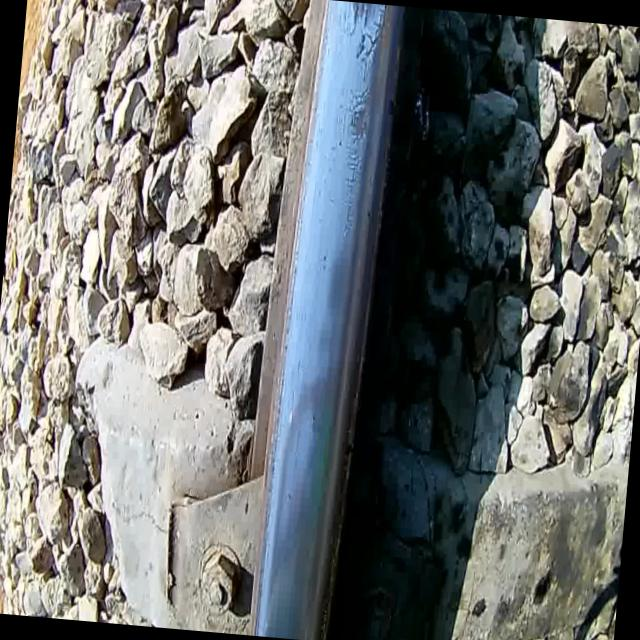Cracks: (352, 2, 394, 71)
Squats: (346, 84, 377, 148), (339, 1, 388, 30)
